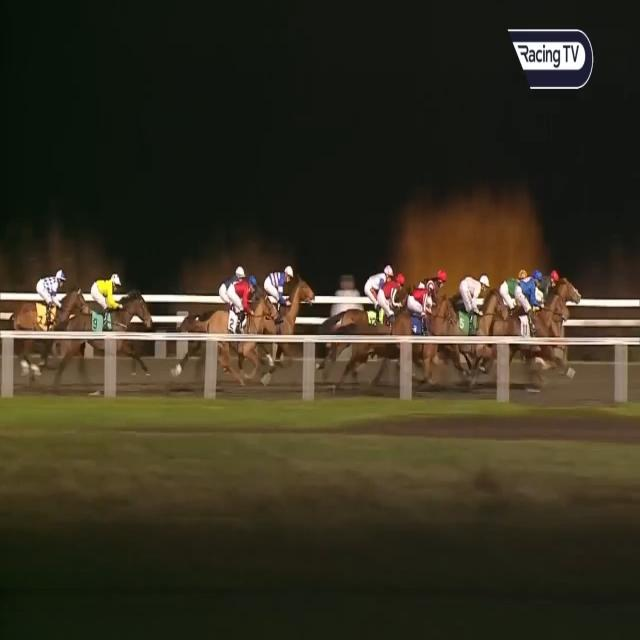horses-racing: (72, 266, 153, 384), (242, 255, 314, 366), (16, 260, 83, 373), (340, 254, 403, 370), (437, 266, 502, 366), (211, 272, 265, 381), (382, 278, 434, 382), (198, 259, 250, 356), (360, 272, 410, 366), (505, 268, 547, 379), (528, 262, 572, 334), (494, 262, 531, 339), (418, 262, 450, 316)
